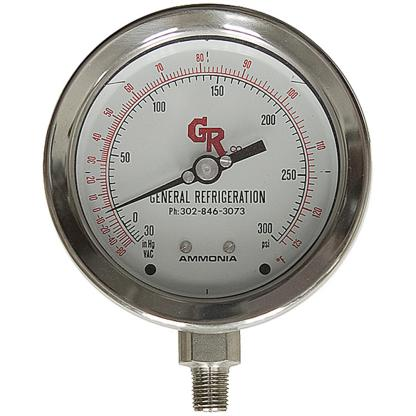needle: (106, 175, 185, 214)
